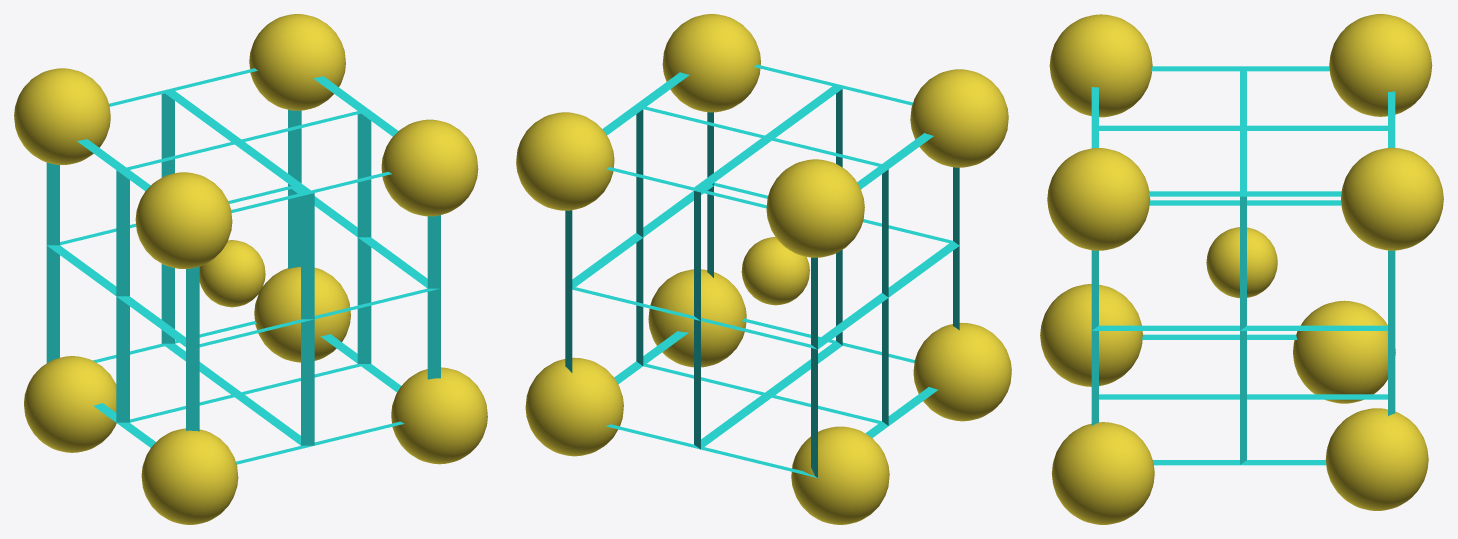
Rendered from latticev2.glb.
3 renders of one model, left to right at view 1: azimuth 30°, elevation 25°; view 2: azimuth 150°, elevation 25°; view 3: azimuth 270°, elevation 25°, orthographic. The views are drawn at different scales.
Parts seen in each view (by area): view 1: Sphere.008; view 2: Sphere.008; view 3: Sphere.008.
Boxes of the visible parts, left/top/right/bottom form: Sphere.008: left=14, top=14, right=487, bottom=524; Sphere.008: left=516, top=14, right=1011, bottom=524; Sphere.008: left=1040, top=14, right=1443, bottom=524.
Bounding box in the file's own units: 11.7 × 11.87 × 11.31.
